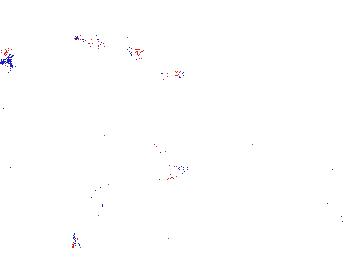X-ray fish: (141, 143, 189, 183)
glassfish: (183, 128, 279, 192), (70, 161, 123, 249)
red belly glassfish: (140, 65, 187, 83)
redtail glassfish: (70, 32, 144, 62)
